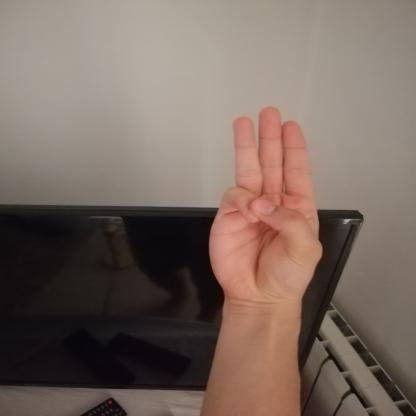THA: (190, 96, 335, 311)
